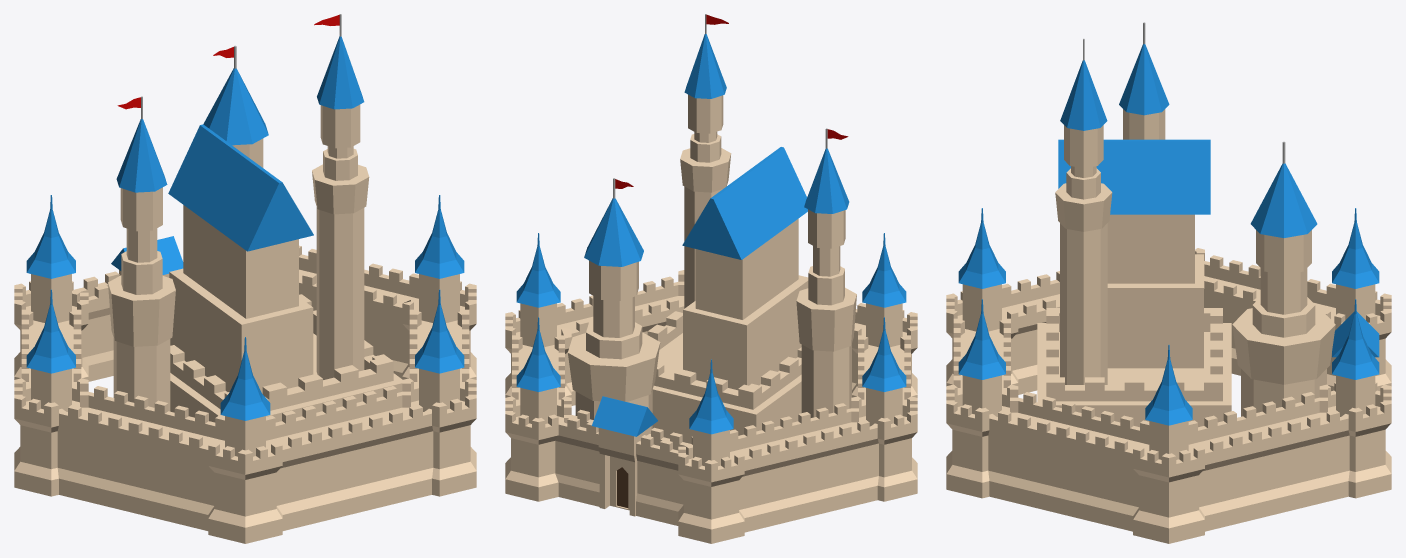
File: Castle.fbx
3 renders of one model, left to right at view 1: azimuth 30°, elevation 25°; view 2: azimuth 150°, elevation 25°; view 3: azimuth 270°, elevation 25°, orthographic. The views are drawn at different scales.
Parts seen in each view (by area): view 1: Castle; view 2: Castle; view 3: Castle.
Part boxes in pixels (<box>): Castle: <box>14,14,476,543</box>; Castle: <box>505,14,917,543</box>; Castle: <box>946,22,1391,543</box>.
Bounding box in the file's own units: 1192 × 1032 × 1075.
